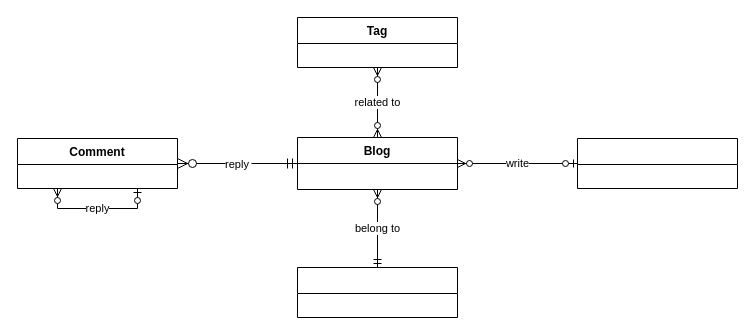
This 755x335 diagram has some shape labels left out. The centre of each missing label's shape, as x and y in pixels:
Category: the point at 377,292
User: the point at 657,163
